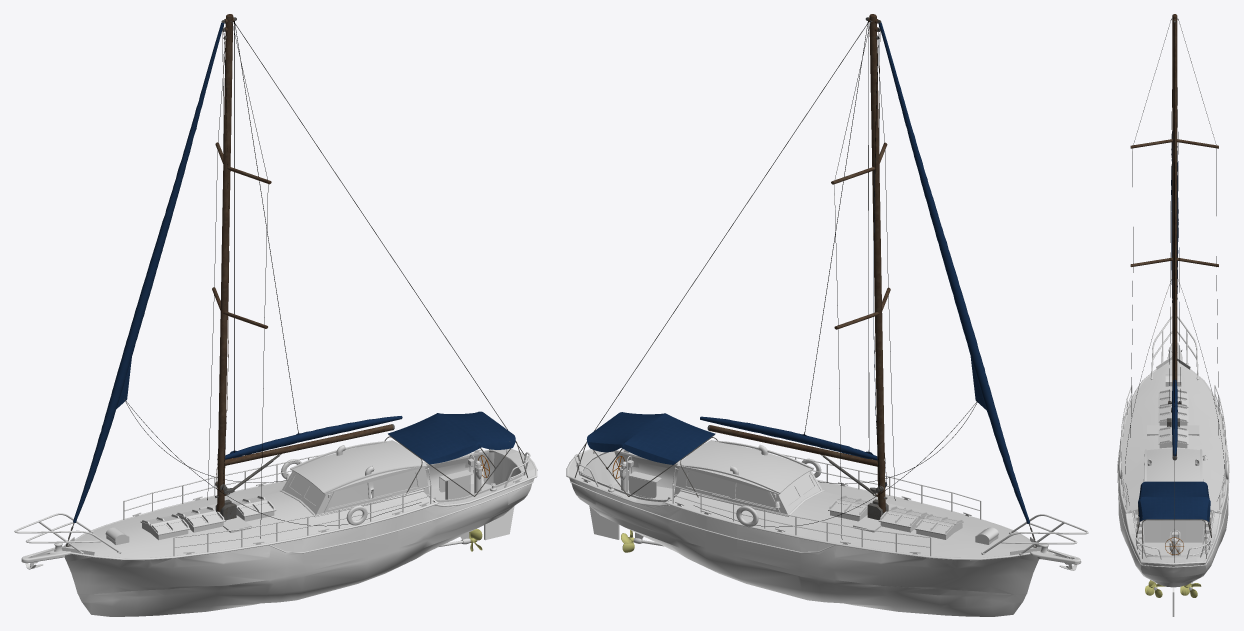
The model's file is SailBoat.fbx.
3 renders of one model, left to right at view 1: azimuth 30°, elevation 25°; view 2: azimuth 150°, elevation 25°; view 3: azimuth 270°, elevation 25°, orthographic. The views are drawn at different scales.
Visible parts, largest first — view 1: Boat, Katartyi; view 2: Boat, Katartyi; view 3: Boat, Katartyi, BladeL, BladeR.
Part boxes in pixels (box(x1,y1,x2,y2)): Boat: box(14, 440, 537, 616); Katartyi: box(66, 14, 527, 546); Boat: box(566, 440, 1088, 616); Katartyi: box(574, 14, 1037, 547); Boat: box(1117, 316, 1229, 590); Katartyi: box(1125, 14, 1224, 562); BladeL: box(1145, 580, 1164, 597); BladeR: box(1180, 583, 1201, 597).
Bounding box in the file's own units: 1149 × 1255 × 262.
